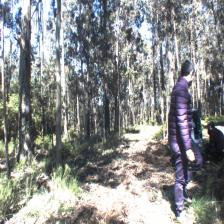trunktrack_idkeyframe: (18, 54, 35, 156), (55, 82, 61, 162)
